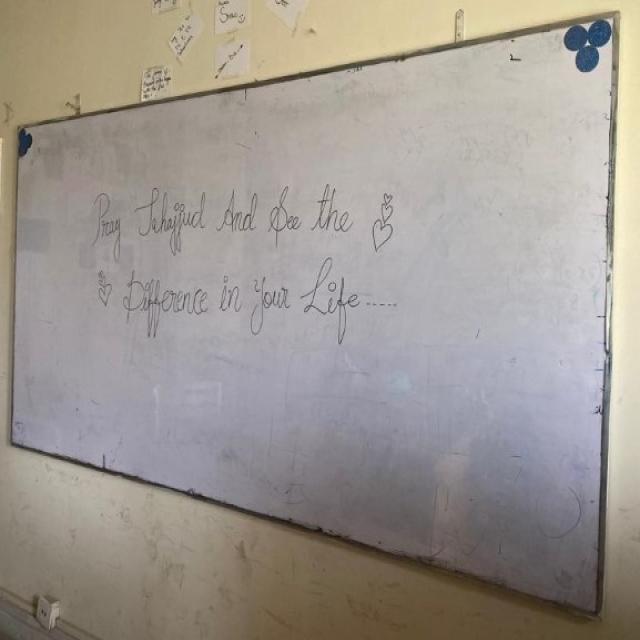White-board: (8, 10, 618, 618)
